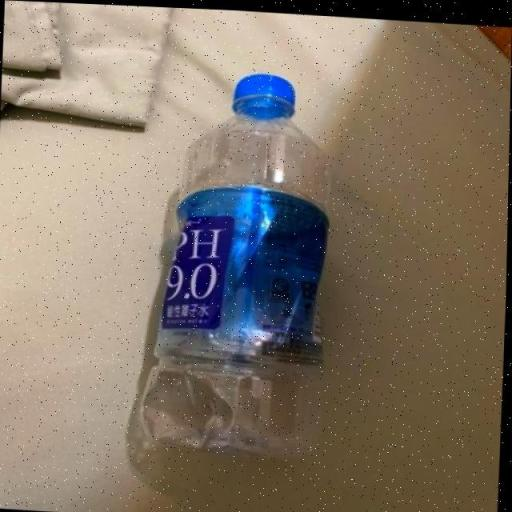plastic: (142, 65, 336, 458)
